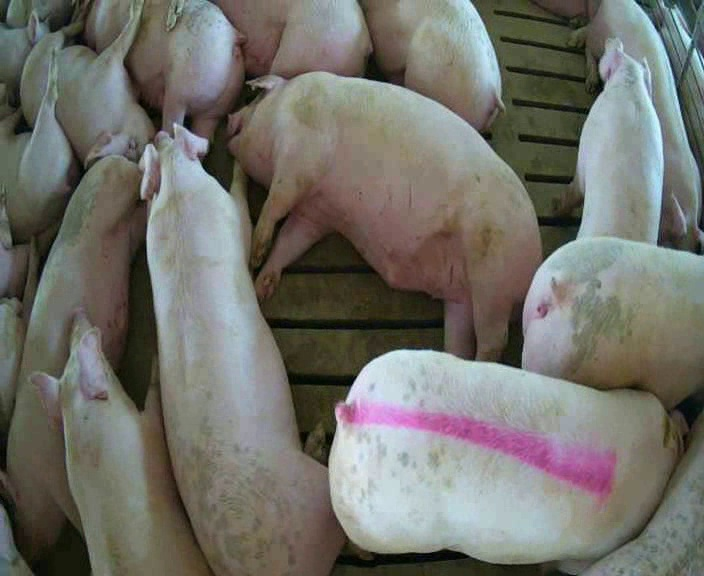pig: (138, 126, 343, 573), (229, 72, 541, 359), (329, 351, 687, 563), (0, 156, 144, 560), (30, 313, 209, 573), (522, 237, 703, 408), (585, 2, 703, 251), (545, 412, 703, 575), (554, 38, 663, 243), (361, 1, 503, 130), (0, 50, 78, 241)
